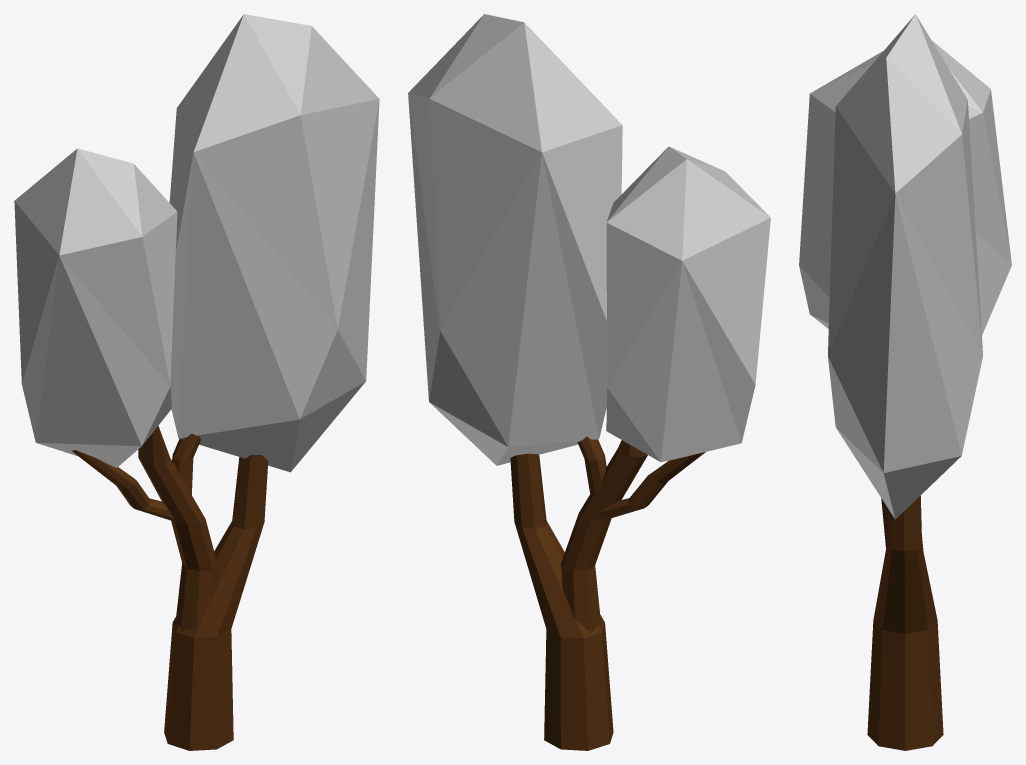
Rendered from Tree_20.fbx.
3 renders of one model, left to right at view 1: azimuth 30°, elevation 25°; view 2: azimuth 150°, elevation 25°; view 3: azimuth 270°, elevation 25°, orthographic. The views are drawn at different scales.
Parts seen in each view (by area): view 1: Tree_20; view 2: Tree_20; view 3: Tree_20.
Part boxes in pixels (bbox=[...]): Tree_20: bbox=[14, 14, 379, 750]; Tree_20: bbox=[408, 14, 770, 750]; Tree_20: bbox=[799, 14, 1011, 750].
Size of the model in its own units: 226 by 433 by 112.
